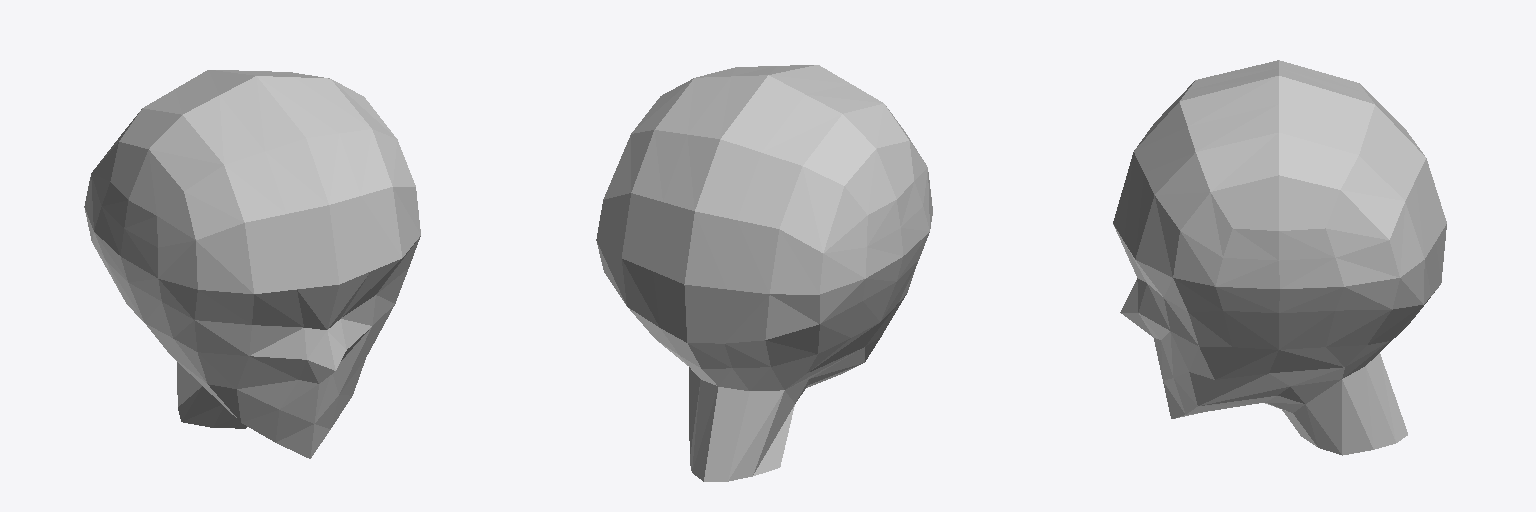
The model's file is base_Head.obj.
3 views of the same model, side by side, from view 1: azimuth 30°, elevation 25°; view 2: azimuth 150°, elevation 25°; view 3: azimuth 270°, elevation 25° (orthographic).
Visible parts, largest first — view 1: pSphere4; view 2: pSphere4; view 3: pSphere4.
Boxes of the visible parts, <box> form: pSphere4: <box>84,70,420,458</box>; pSphere4: <box>596,65,932,481</box>; pSphere4: <box>1113,60,1446,455</box>.
Bounding box in the file's own units: 1.83 × 2.33 × 1.95.